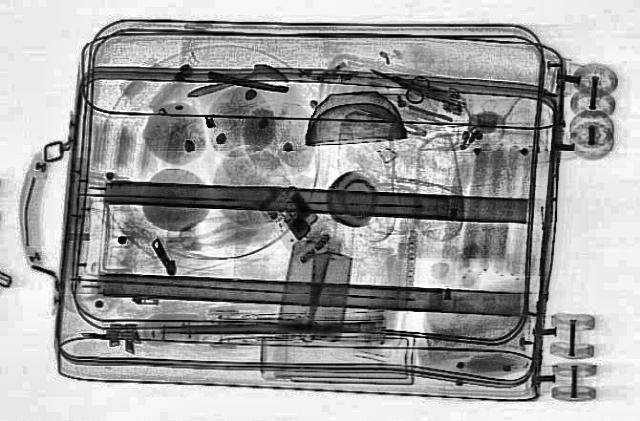Scissors: (358, 59, 440, 103)
